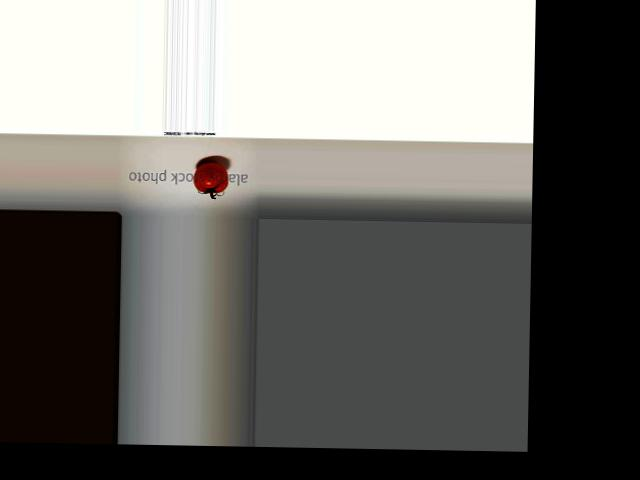tomato: (192, 161, 228, 193)
